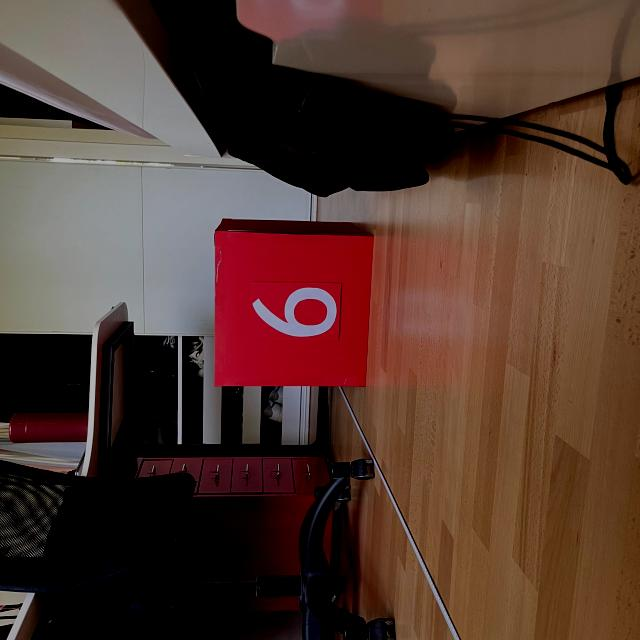box: (210, 214, 376, 390)
